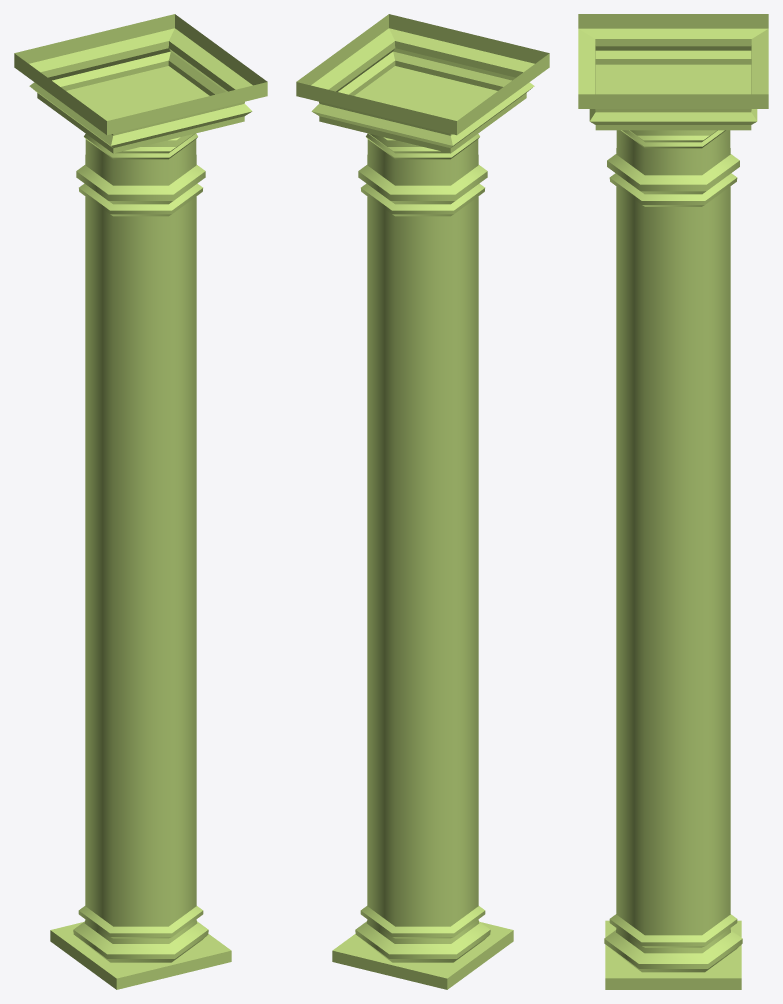
File: PillarRound.fbx
3 renders of one model, left to right at view 1: azimuth 30°, elevation 25°; view 2: azimuth 150°, elevation 25°; view 3: azimuth 270°, elevation 25°, orthographic. The views are drawn at different scales.
Parts seen in each view (by area): view 1: pCylinder84.001; view 2: pCylinder84.001; view 3: pCylinder84.001.
Part boxes in pixels (x1=…): pCylinder84.001: x1=14, y1=14, x2=267, y2=989; pCylinder84.001: x1=296, y1=14, x2=549, y2=989; pCylinder84.001: x1=578, y1=14, x2=768, y2=989.
Bounding box in the file's own units: 0.2208 × 1.16 × 0.2208.
